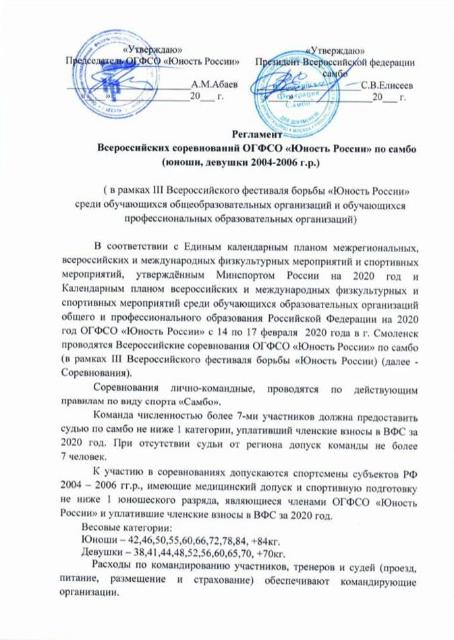stamp: (73, 30, 159, 120), (252, 52, 342, 136)
